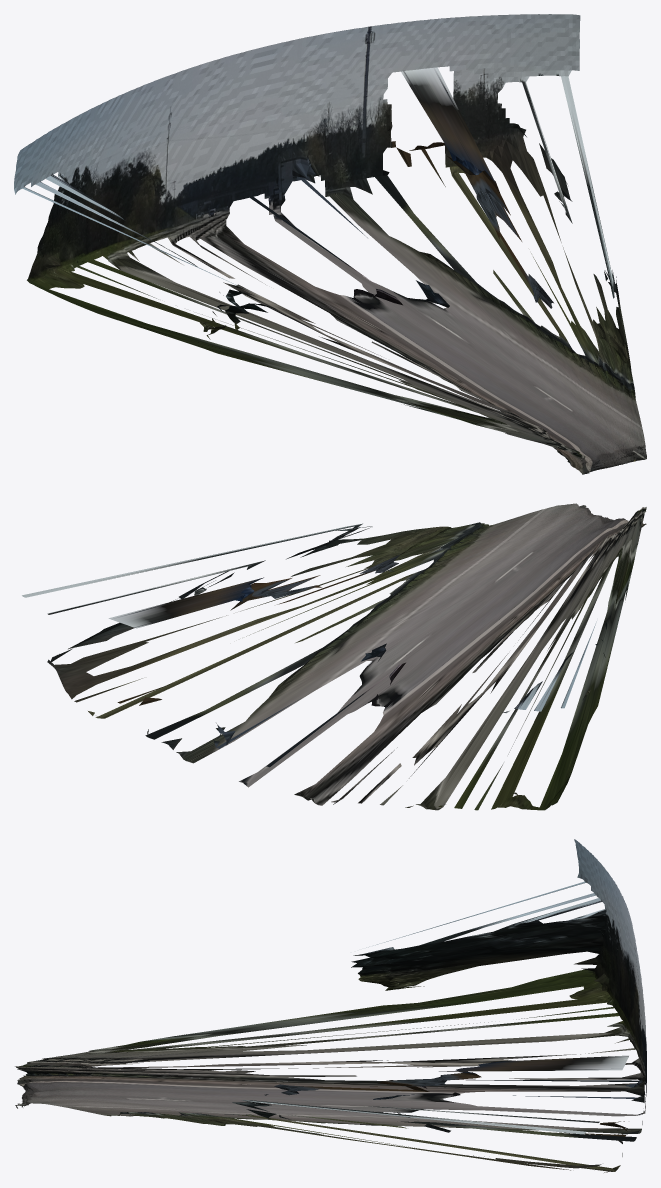
3 renders of one model, top to bottom at view 1: azimuth 30°, elevation 25°; view 2: azimuth 150°, elevation 25°; view 3: azimuth 270°, elevation 25°, orthographic. The views are drawn at different scales.
Visible parts, largest first — view 1: defaultobject; view 2: defaultobject; view 3: defaultobject.
Part boxes in pixels (bbox=[...]): defaultobject: bbox=[14, 14, 646, 474]; defaultobject: bbox=[22, 503, 646, 810]; defaultobject: bbox=[15, 839, 646, 1172].
Bounding box in the file's own units: 40.89 × 12.5 × 44.82.
1 material, 1 textured.
